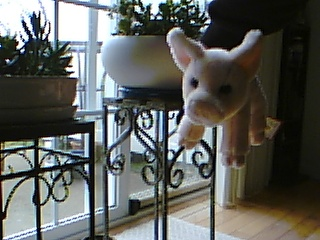piggy: (163, 25, 270, 170)
